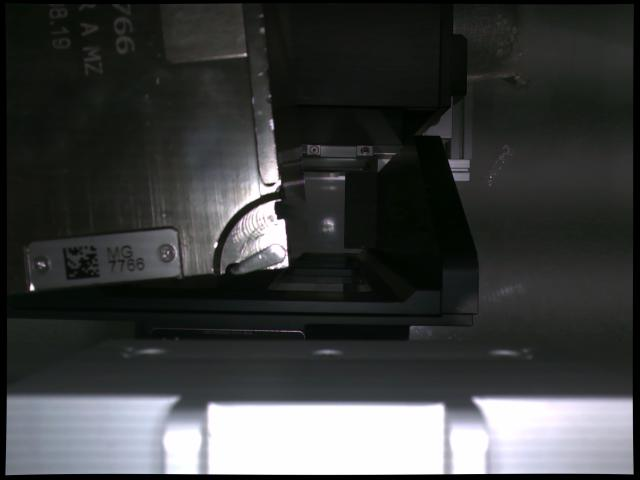jig_latch: (228, 244, 286, 275)
